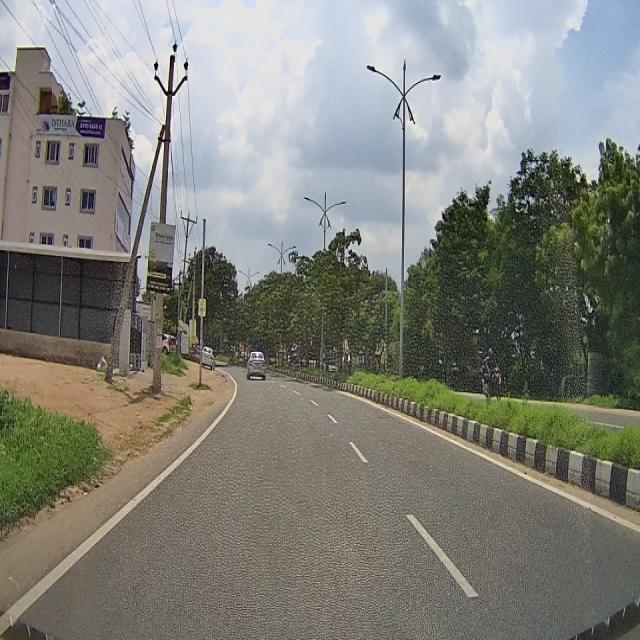car ahead at: (240, 344, 269, 389)
electric pole ahead at: (142, 26, 188, 403)
